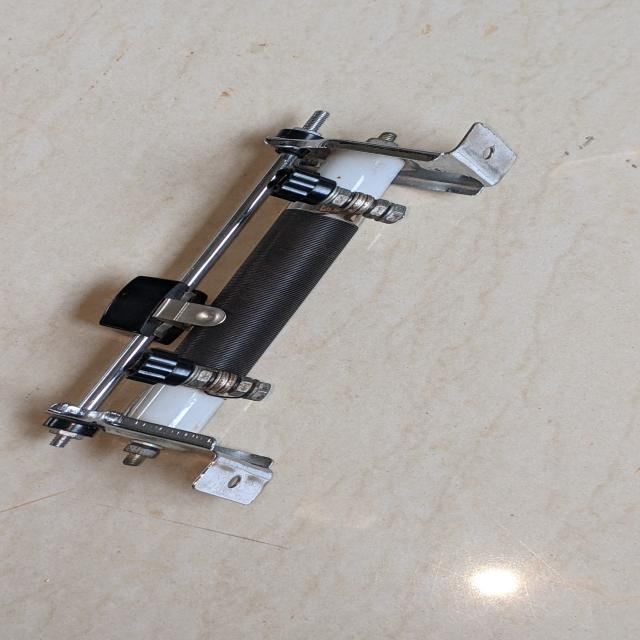Rheostat: (31, 79, 547, 513)
